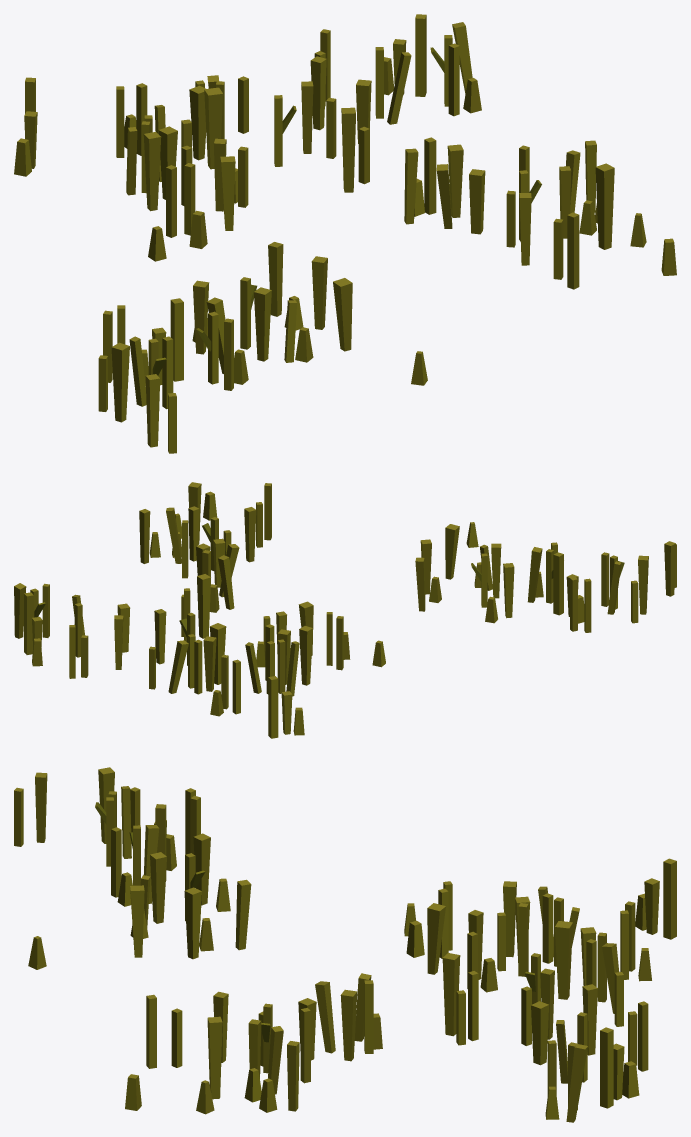
File: SF_Env_Swamp_Preset_07.FBX
3 views of the same model, one above another, from view 1: azimuth 30°, elevation 25°; view 2: azimuth 150°, elevation 25°; view 3: azimuth 270°, elevation 25° (orthographic). The views are drawn at different scales.
Visible parts, largest first — view 1: SF_Env_Swamp_Preset_07_Elements83, SF_Env_Swamp_Preset_07_Elements52, SF_Env_Swamp_Preset_07_Elements13, SF_Env_Swamp_Preset_07_Elements16, SF_Env_Swamp_Preset_07_Elements24, SF_Env_Swamp_Preset_07_Elements28, SF_Env_Swamp_Preset_07_Elements59, SF_Env_Swamp_Preset_07_Elements27, SF_Env_Swamp_Preset_07_Elements54, SF_Env_Swamp_Preset_07_Elements11, SF_Env_Swamp_Preset_07_Elements74, SF_Env_Swamp_Preset_07_Elements12 (+34 smaller); view 2: SF_Env_Swamp_Preset_07_Elements24, SF_Env_Swamp_Preset_07_Elements16, SF_Env_Swamp_Preset_07_Elements54, SF_Env_Swamp_Preset_07_Elements21, SF_Env_Swamp_Preset_07_Elements13, SF_Env_Swamp_Preset_07_Elements28, SF_Env_Swamp_Preset_07_Elements27, SF_Env_Swamp_Preset_07_Elements87, SF_Env_Swamp_Preset_07_Elements53, SF_Env_Swamp_Preset_07_Elements30, SF_Env_Swamp_Preset_07_Elements74, SF_Env_Swamp_Preset_07_Elements9 (+31 smaller); view 3: SF_Env_Swamp_Preset_07_Elements24, SF_Env_Swamp_Preset_07_Elements28, SF_Env_Swamp_Preset_07_Elements74, SF_Env_Swamp_Preset_07_Elements21, SF_Env_Swamp_Preset_07_Elements83, SF_Env_Swamp_Preset_07_Elements38, SF_Env_Swamp_Preset_07_Elements11, SF_Env_Swamp_Preset_07_Elements59, SF_Env_Swamp_Preset_07_Elements31, SF_Env_Swamp_Preset_07_Elements94, SF_Env_Swamp_Preset_07_Elements89, SF_Env_Swamp_Preset_07_Elements70 (+37 smaller).
Boxes of the visible parts, <box> form: SF_Env_Swamp_Preset_07_Elements83: <box>595,163,614,249</box>; SF_Env_Swamp_Preset_07_Elements52: <box>111,342,129,422</box>; SF_Env_Swamp_Preset_07_Elements13: <box>333,278,352,351</box>; SF_Env_Swamp_Preset_07_Elements16: <box>143,131,161,211</box>; SF_Env_Swamp_Preset_07_Elements24: <box>341,107,355,192</box>; SF_Env_Swamp_Preset_07_Elements28: <box>204,87,223,169</box>; SF_Env_Swamp_Preset_07_Elements59: <box>254,287,271,361</box>; SF_Env_Swamp_Preset_07_Elements27: <box>189,85,206,160</box>; SF_Env_Swamp_Preset_07_Elements54: <box>170,298,183,381</box>; SF_Env_Swamp_Preset_07_Elements11: <box>311,256,327,329</box>; SF_Env_Swamp_Preset_07_Elements74: <box>415,14,426,96</box>; SF_Env_Swamp_Preset_07_Elements12: <box>268,242,283,316</box>; SF_Env_Swamp_Preset_07_Elements24: <box>197,574,210,638</box>; SF_Env_Swamp_Preset_07_Elements16: <box>299,626,312,685</box>; SF_Env_Swamp_Preset_07_Elements54: <box>553,552,563,615</box>; SF_Env_Swamp_Preset_07_Elements21: <box>268,676,278,738</box>; SF_Env_Swamp_Preset_07_Elements13: <box>445,524,459,579</box>; SF_Env_Swamp_Preset_07_Elements28: <box>210,623,226,684</box>; SF_Env_Swamp_Preset_07_Elements27: <box>203,636,216,691</box>; SF_Env_Swamp_Preset_07_Elements87: <box>244,507,256,562</box>; SF_Env_Swamp_Preset_07_Elements53: <box>664,541,675,596</box>; SF_Env_Swamp_Preset_07_Elements30: <box>154,609,166,664</box>; SF_Env_Swamp_Preset_07_Elements74: <box>24,592,33,654</box>; SF_Env_Swamp_Preset_07_Elements9: <box>168,640,188,693</box>; SF_Env_Swamp_Preset_07_Elements24: <box>442,953,460,1036</box>; SF_Env_Swamp_Preset_07_Elements28: <box>555,921,572,999</box>; SF_Env_Swamp_Preset_07_Elements74: <box>600,1027,613,1108</box>; SF_Env_Swamp_Preset_07_Elements21: <box>663,858,676,939</box>; SF_Env_Swamp_Preset_07_Elements83: <box>207,1016,222,1099</box>; SF_Env_Swamp_Preset_07_Elements38: <box>427,903,445,974</box>; SF_Env_Swamp_Preset_07_Elements11: <box>184,887,201,959</box>; SF_Env_Swamp_Preset_07_Elements59: <box>150,852,166,923</box>; SF_Env_Swamp_Preset_07_Elements31: <box>531,1001,548,1065</box>; SF_Env_Swamp_Preset_07_Elements94: <box>340,989,357,1061</box>; SF_Env_Swamp_Preset_07_Elements89: <box>315,981,335,1053</box>; SF_Env_Swamp_Preset_07_Elements70: <box>566,1044,587,1122</box>.
Size of the model in its own units: 18.28 by 2.32 by 18.02.
